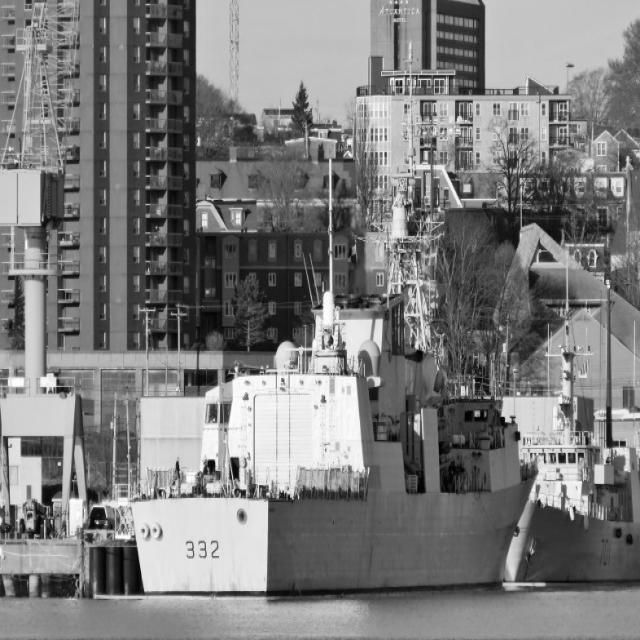Fragata: (125, 26, 544, 600)
